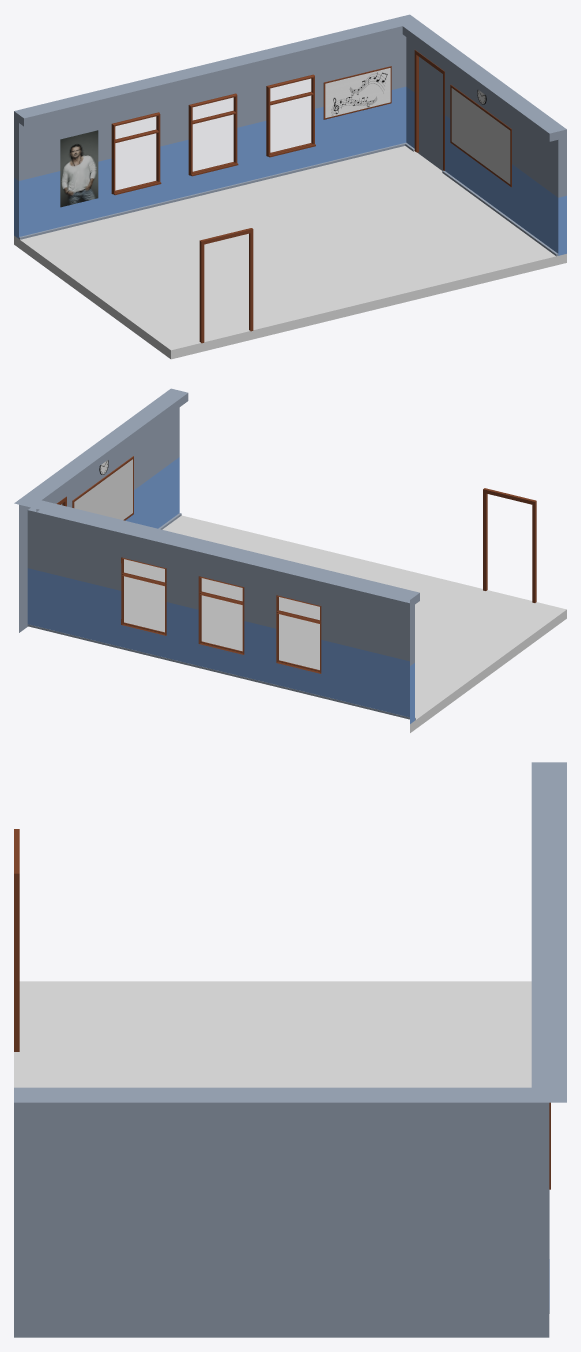
The model's file is Room_Aula12.fbx.
3 views of the same model, one above another, from view 1: azimuth 30°, elevation 25°; view 2: azimuth 150°, elevation 25°; view 3: azimuth 270°, elevation 25° (orthographic). The views are drawn at different scales.
Visible parts, largest first — view 1: Aula12_Base; view 2: Aula12_Base; view 3: Aula12_Base.
Boxes of the visible parts, x1,y1,x2,y2 form: Aula12_Base: [14, 14, 566, 359]; Aula12_Base: [14, 388, 566, 732]; Aula12_Base: [14, 762, 566, 1337].
Bounding box in the file's own units: 4545 × 1464 × 3122.
Materials: 9 (3 with a texture image).
